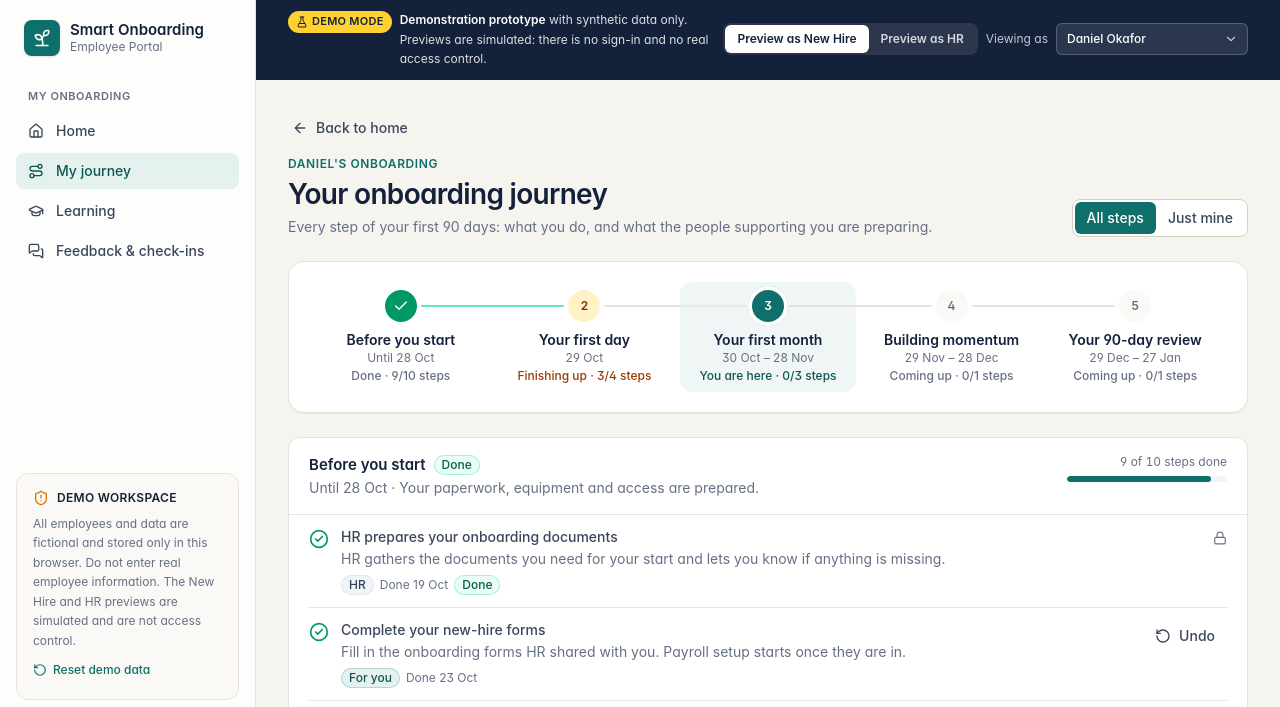
Test: Employee journey page › lists every phase and lets the employee filter to their own steps
The width and height of the screenshot is (1280, 707).
Check: the heading "Your onboarding journey" is shown, box [288,176,607,210]
Click the radio button labelled "Just mine" at (1200, 217), box [1168,209,1233,226]
(page scrolled)
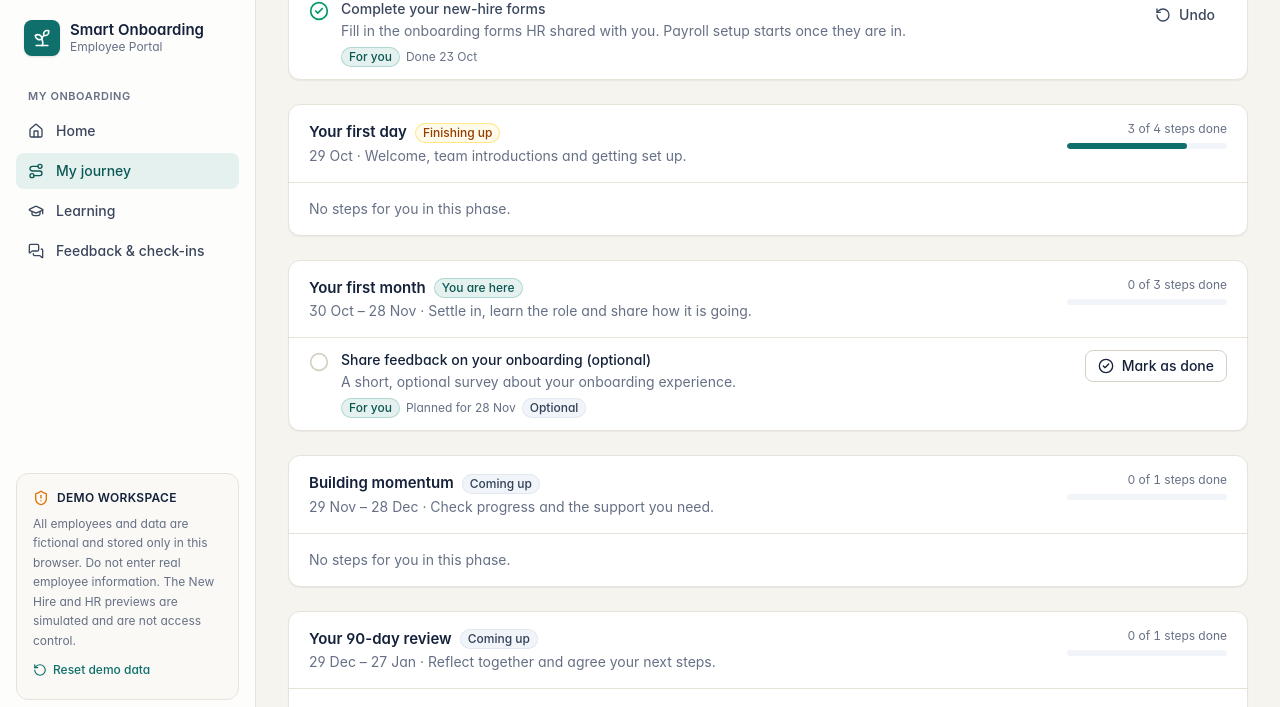
Check: the text "Share feedback on your onboarding (optional)" is shown, box [341,351,651,368]
Check: the 1st text "No steps for you in this phase." is shown, box [309,200,510,217]
